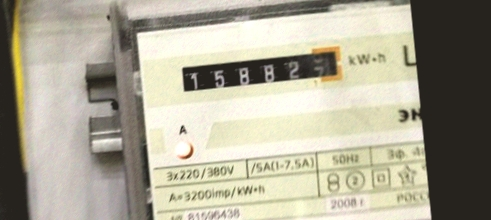1: (188, 71, 199, 90)
2: (287, 59, 301, 80)
5: (210, 68, 226, 88)
7: (311, 63, 324, 77)
8: (261, 61, 276, 83), (237, 65, 251, 86)
screen: (175, 43, 347, 100)
